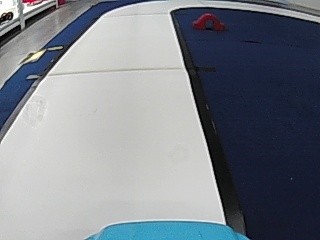bridge: (192, 13, 224, 30)
